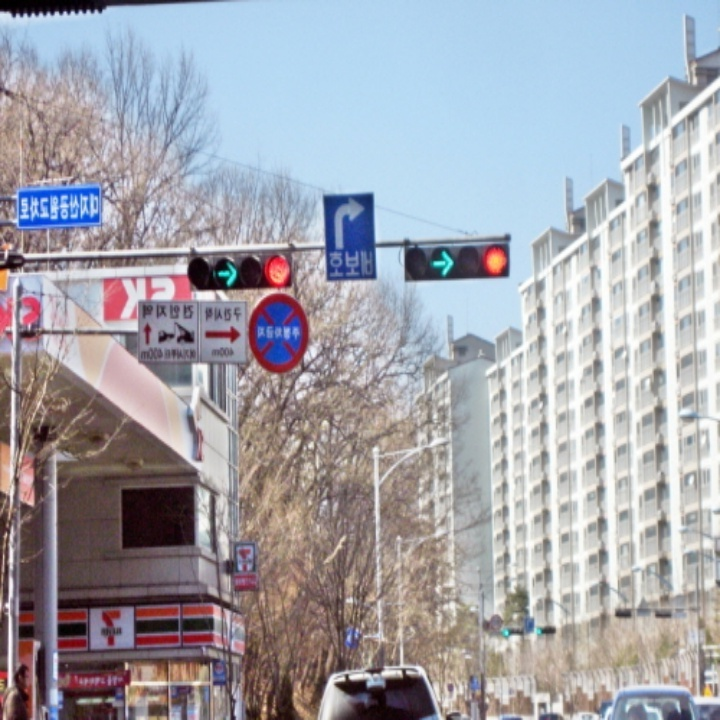right: (326, 195, 370, 248)
